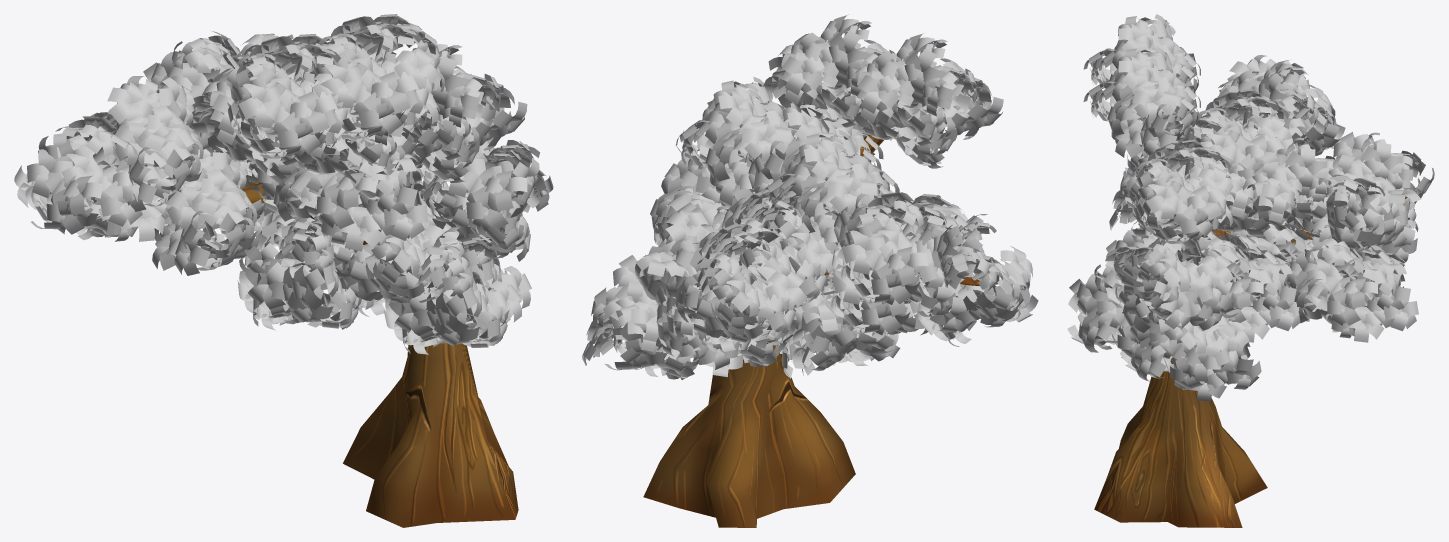
The model's file is tree.FBX.
The picture shows the model from 3 angles, left to right: view 1: azimuth 30°, elevation 25°; view 2: azimuth 150°, elevation 25°; view 3: azimuth 270°, elevation 25°; orthographic projection. The views are drawn at different scales.
Visible parts, largest first — view 1: flower022, Cylinder007; view 2: flower022, Cylinder007; view 3: flower022, Cylinder007.
Part boxes in pixels (x1=…): flower022: x1=14, y1=14, x2=553, y2=354; Cylinder007: x1=148, y1=181, x2=518, y2=527; flower022: x1=582, y1=14, x2=1038, y2=379; Cylinder007: x1=643, y1=134, x2=979, y2=527; flower022: x1=1067, y1=14, x2=1434, y2=401; Cylinder007: x1=1094, y1=138, x2=1407, y2=527.
Bounding box in the file's own units: 285 × 305 × 243.
